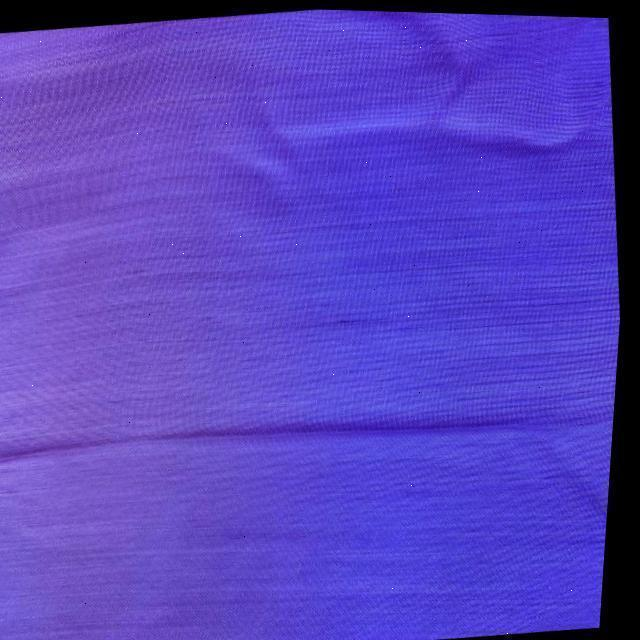broken_yarn: (0, 417, 524, 467)
